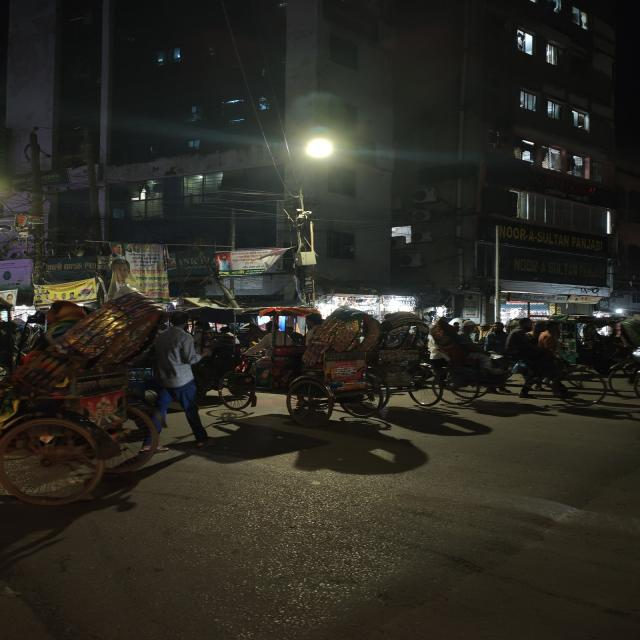pedestrian: (150, 313, 214, 456)
rickshaw: (1, 292, 149, 507), (222, 307, 415, 427), (440, 317, 561, 415), (380, 312, 439, 412)
